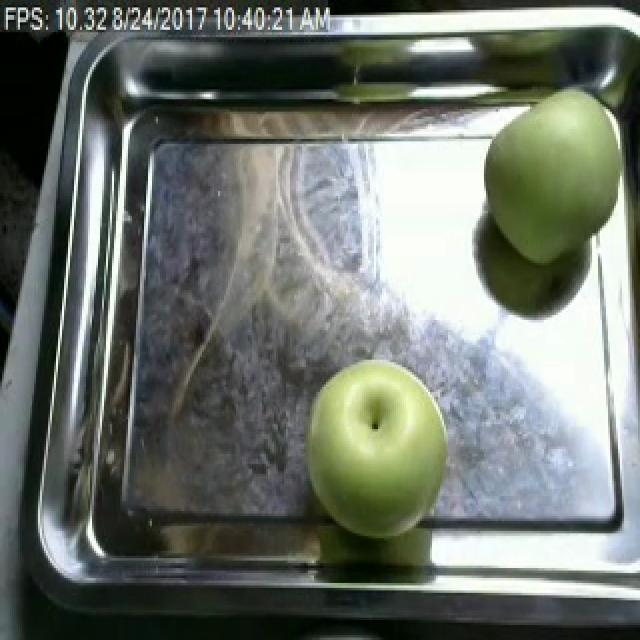50-_ripeness: (307, 354, 451, 548), (478, 87, 627, 267)
